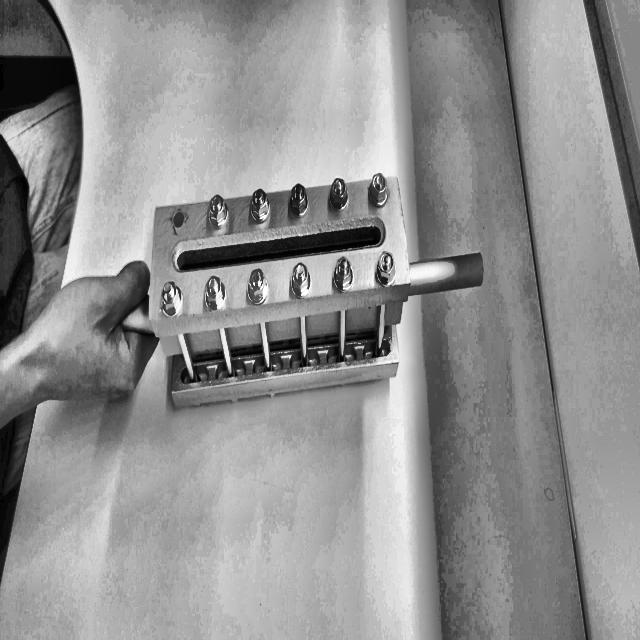ShuiWeiQi_11: (123, 77, 493, 451)
